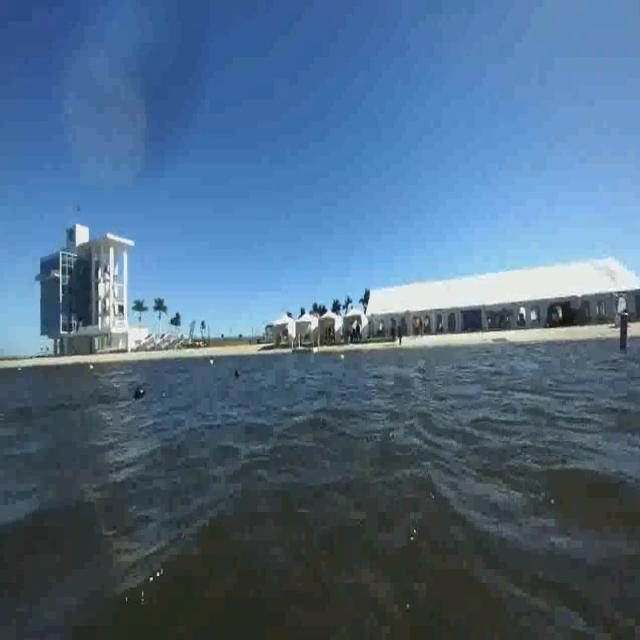black-buoy: (132, 385, 148, 402)
